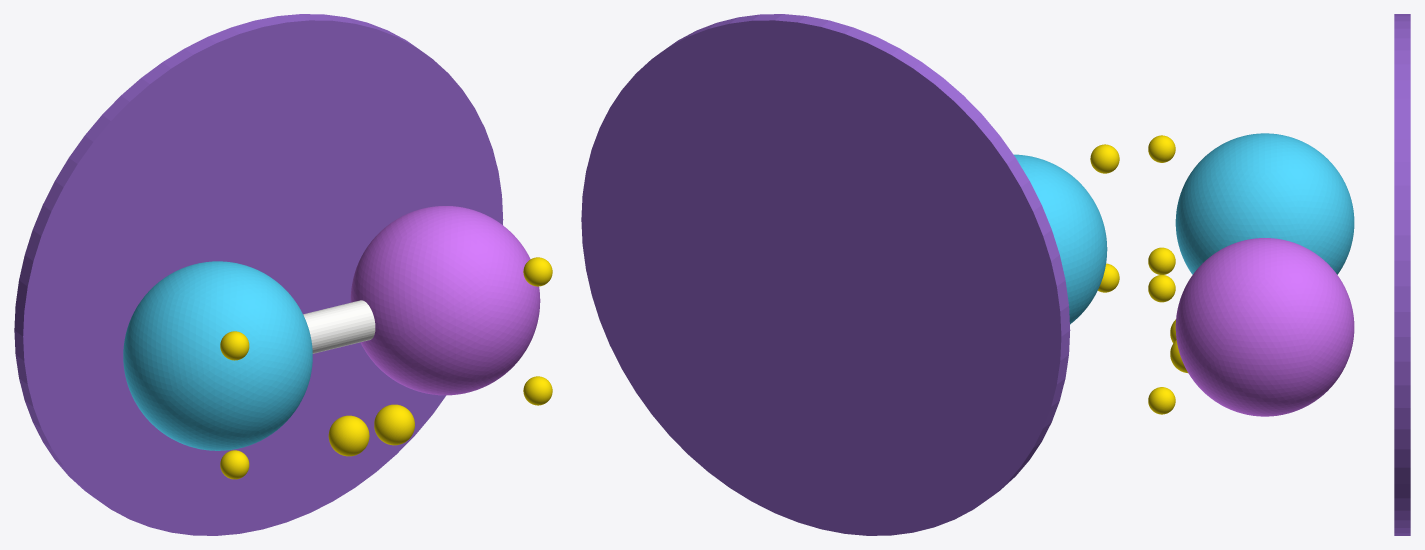
File: modelo.glb
The picture shows the model from 3 angles, left to right: view 1: azimuth 30°, elevation 25°; view 2: azimuth 150°, elevation 25°; view 3: azimuth 270°, elevation 25°; orthographic projection. The views are drawn at different scales.
Parts seen in each view (by area): view 1: base, atomo_A, atomo_B, ligacao_compartilhada, eletron_compartilhado_1, eletron_compartilhado_2, eletron_valencia_1, eletron_valencia_2, eletron_valencia_3, eletron_valencia_4; view 2: base, atomo_A, eletron_valencia_2; view 3: atomo_B, atomo_A, base, eletron_valencia_1, eletron_valencia_4, eletron_valencia_2, eletron_valencia_3.
Boxes of the visible parts, left/top/right/bottom form: base: left=14, top=14, right=503, bottom=535; atomo_A: left=123, top=261, right=312, bottom=450; atomo_B: left=350, top=206, right=540, bottom=395; ligacao_compartilhada: left=303, top=300, right=375, bottom=353; eletron_compartilhado_1: left=328, top=415, right=369, bottom=456; eletron_compartilhado_2: left=374, top=404, right=414, bottom=445; eletron_valencia_1: left=220, top=450, right=249, bottom=479; eletron_valencia_2: left=220, top=331, right=249, bottom=360; eletron_valencia_3: left=523, top=376, right=552, bottom=405; eletron_valencia_4: left=523, top=257, right=552, bottom=286; base: left=581, top=14, right=1070, bottom=535; atomo_A: left=1014, top=154, right=1107, bottom=324; eletron_valencia_2: left=1090, top=144, right=1119, bottom=173; atomo_B: left=1175, top=238, right=1354, bottom=416; atomo_A: left=1175, top=133, right=1354, bottom=274; base: left=1394, top=14, right=1410, bottom=535; eletron_valencia_1: left=1148, top=247, right=1175, bottom=274; eletron_valencia_4: left=1148, top=275, right=1175, bottom=302; eletron_valencia_2: left=1148, top=135, right=1175, bottom=162; eletron_valencia_3: left=1148, top=387, right=1175, bottom=414.
Size of the model in its own units: 0.38 by 0.38 by 0.191.
